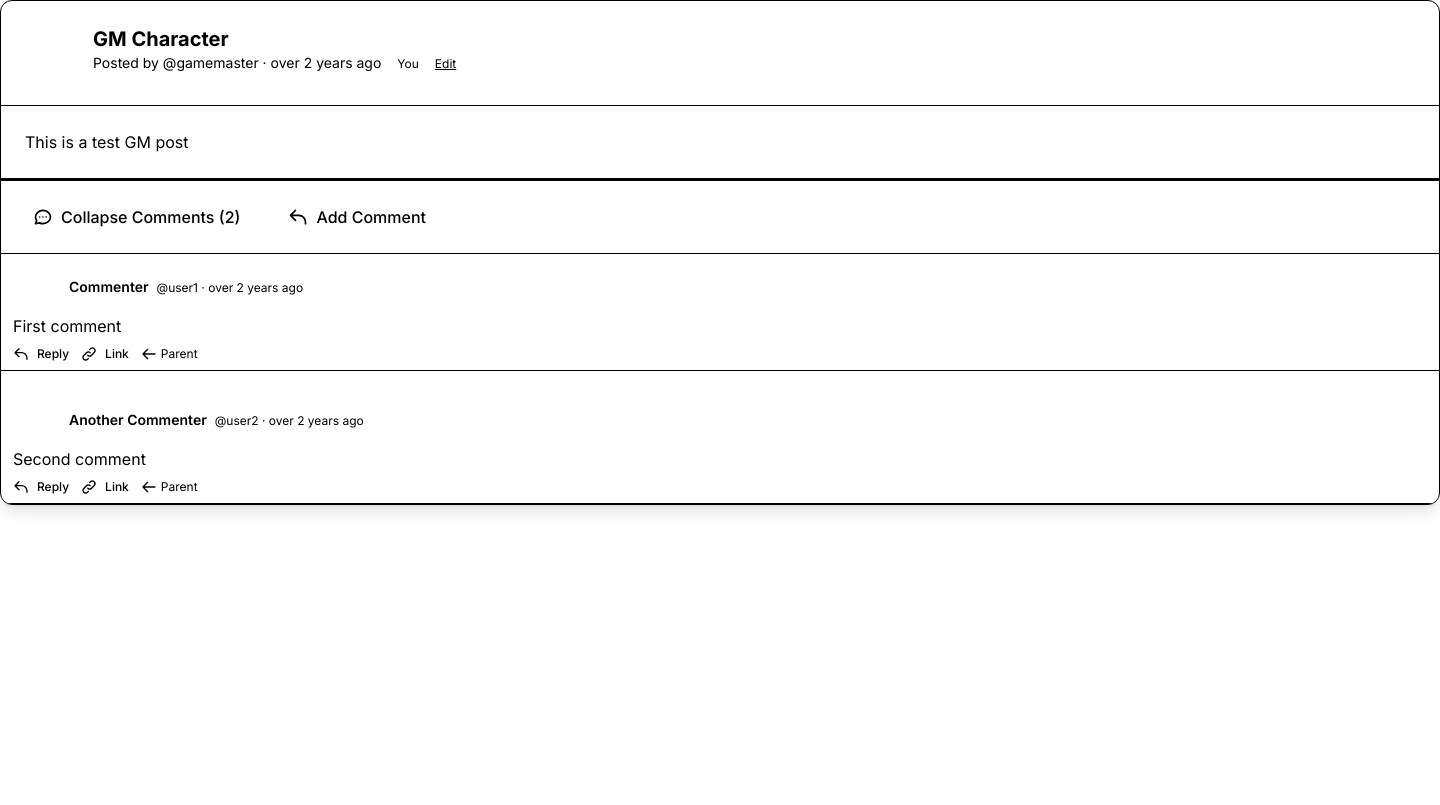
Scenario: PostCard › Add Comment Button › opens comment form when add comment is clicked
Click the button "Add Comment" at coordinates (357, 217), box x1=272 y1=197 x2=442 y2=237
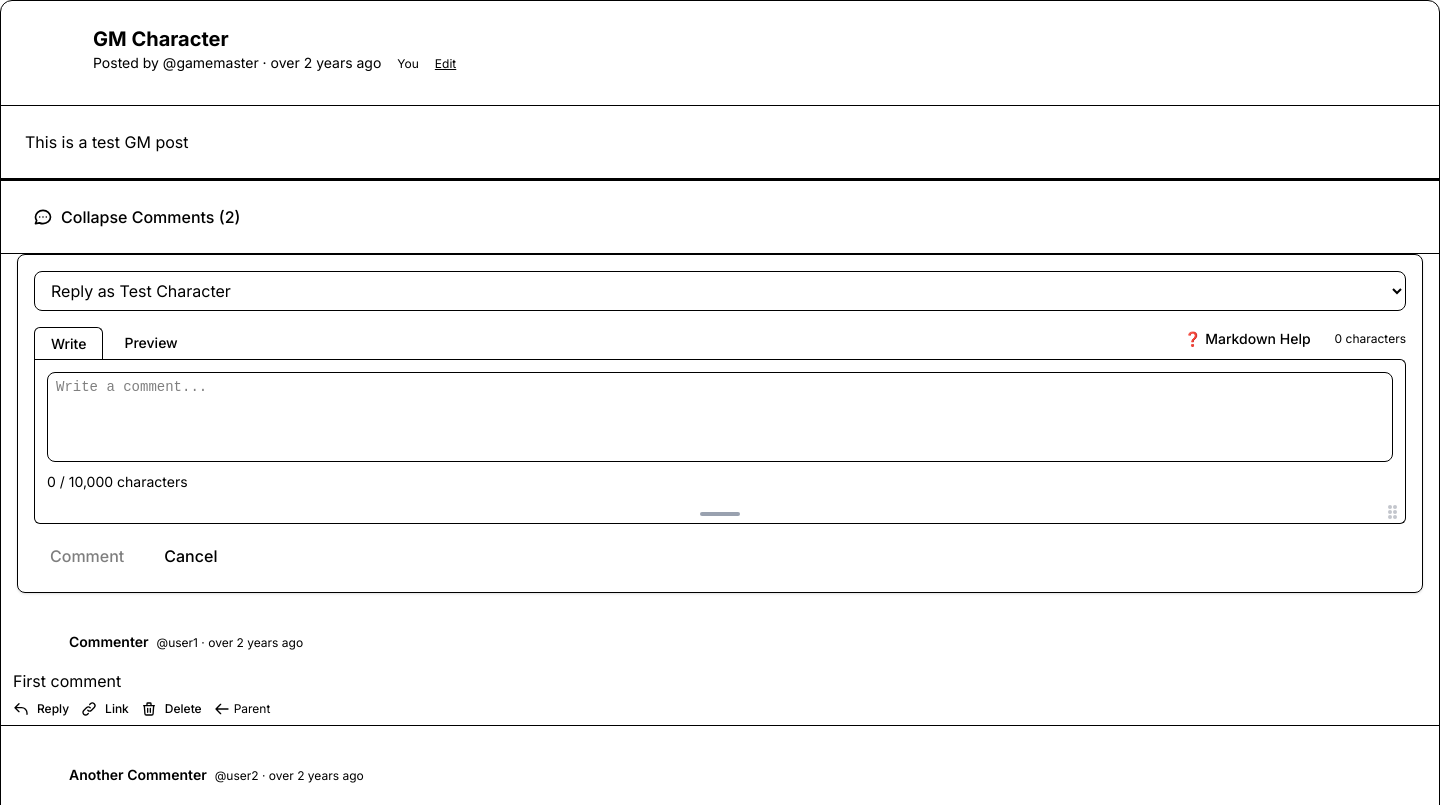
Check: the text box with placeholder "Write a comment..." is shown, box x1=47 y1=372 x2=1393 y2=462
